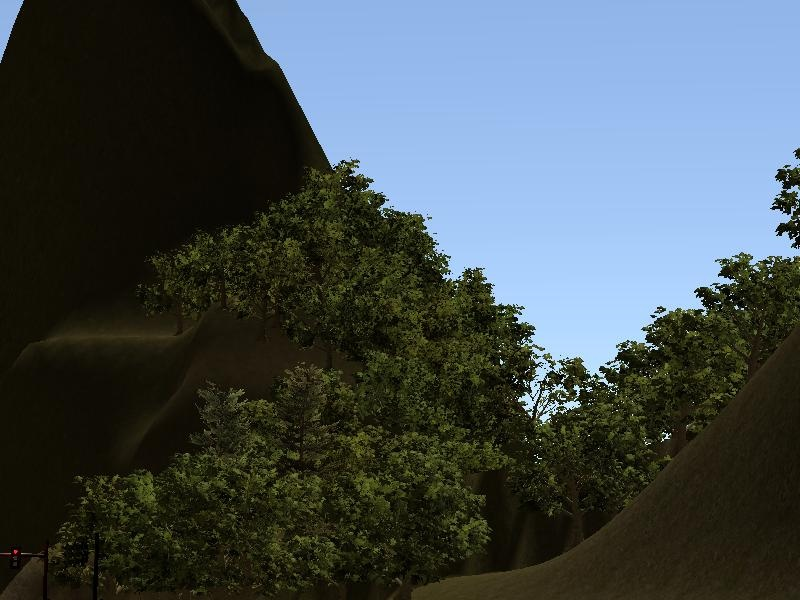Red: (10, 545, 22, 569)
